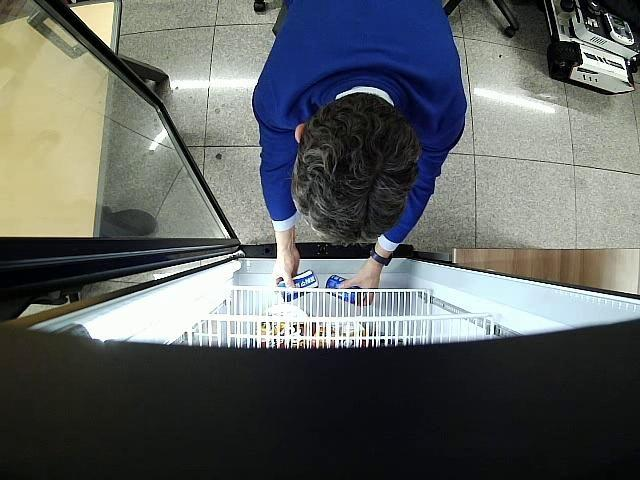13_pocariSweat: (278, 270, 318, 302), (326, 273, 364, 304)
